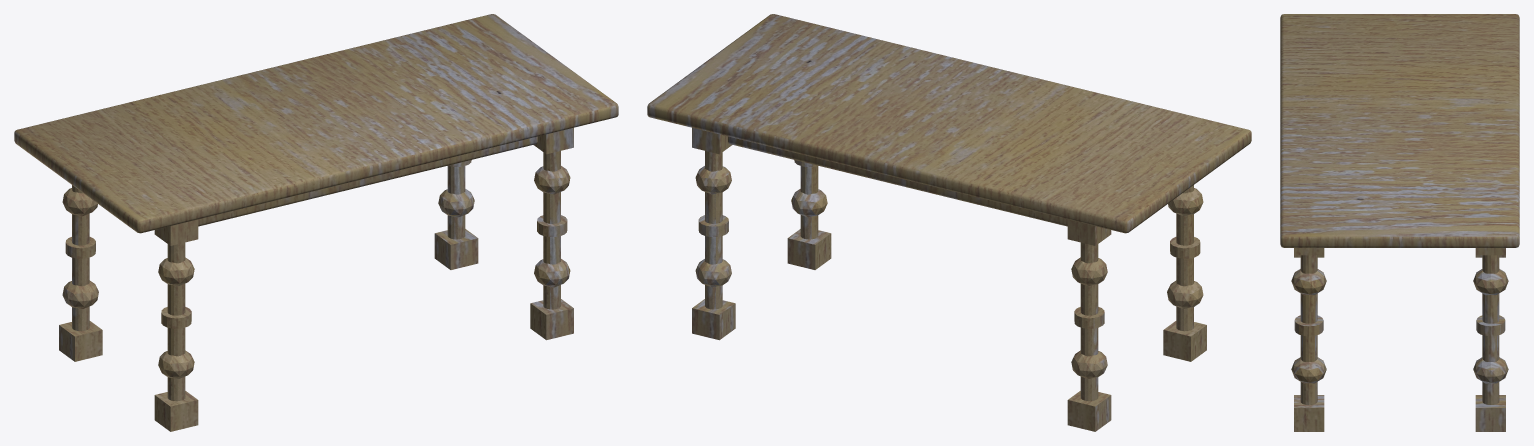
The model's file is Antique_Table_13.fbx.
3 renders of one model, left to right at view 1: azimuth 30°, elevation 25°; view 2: azimuth 150°, elevation 25°; view 3: azimuth 270°, elevation 25°, orthographic. The views are drawn at different scales.
Visible parts, largest first — view 1: Antique_Table; view 2: Antique_Table; view 3: Antique_Table.
Part boxes in pixels (x1,y1,x2,y2): Antique_Table: [14, 14, 618, 431]; Antique_Table: [647, 14, 1251, 431]; Antique_Table: [1280, 14, 1519, 431].
Bounding box in the file's own units: 1.79 × 0.8 × 0.81.
1 material, 1 textured.
